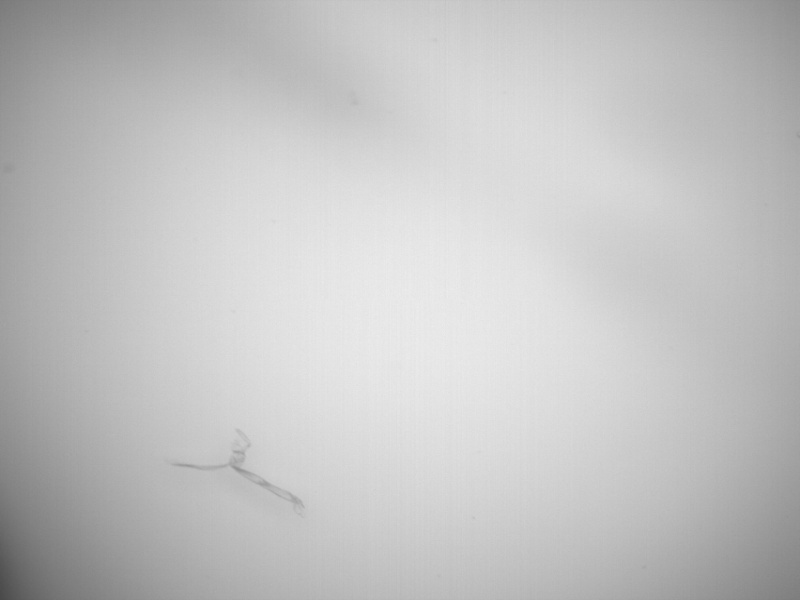fiber: (166, 426, 309, 518)
